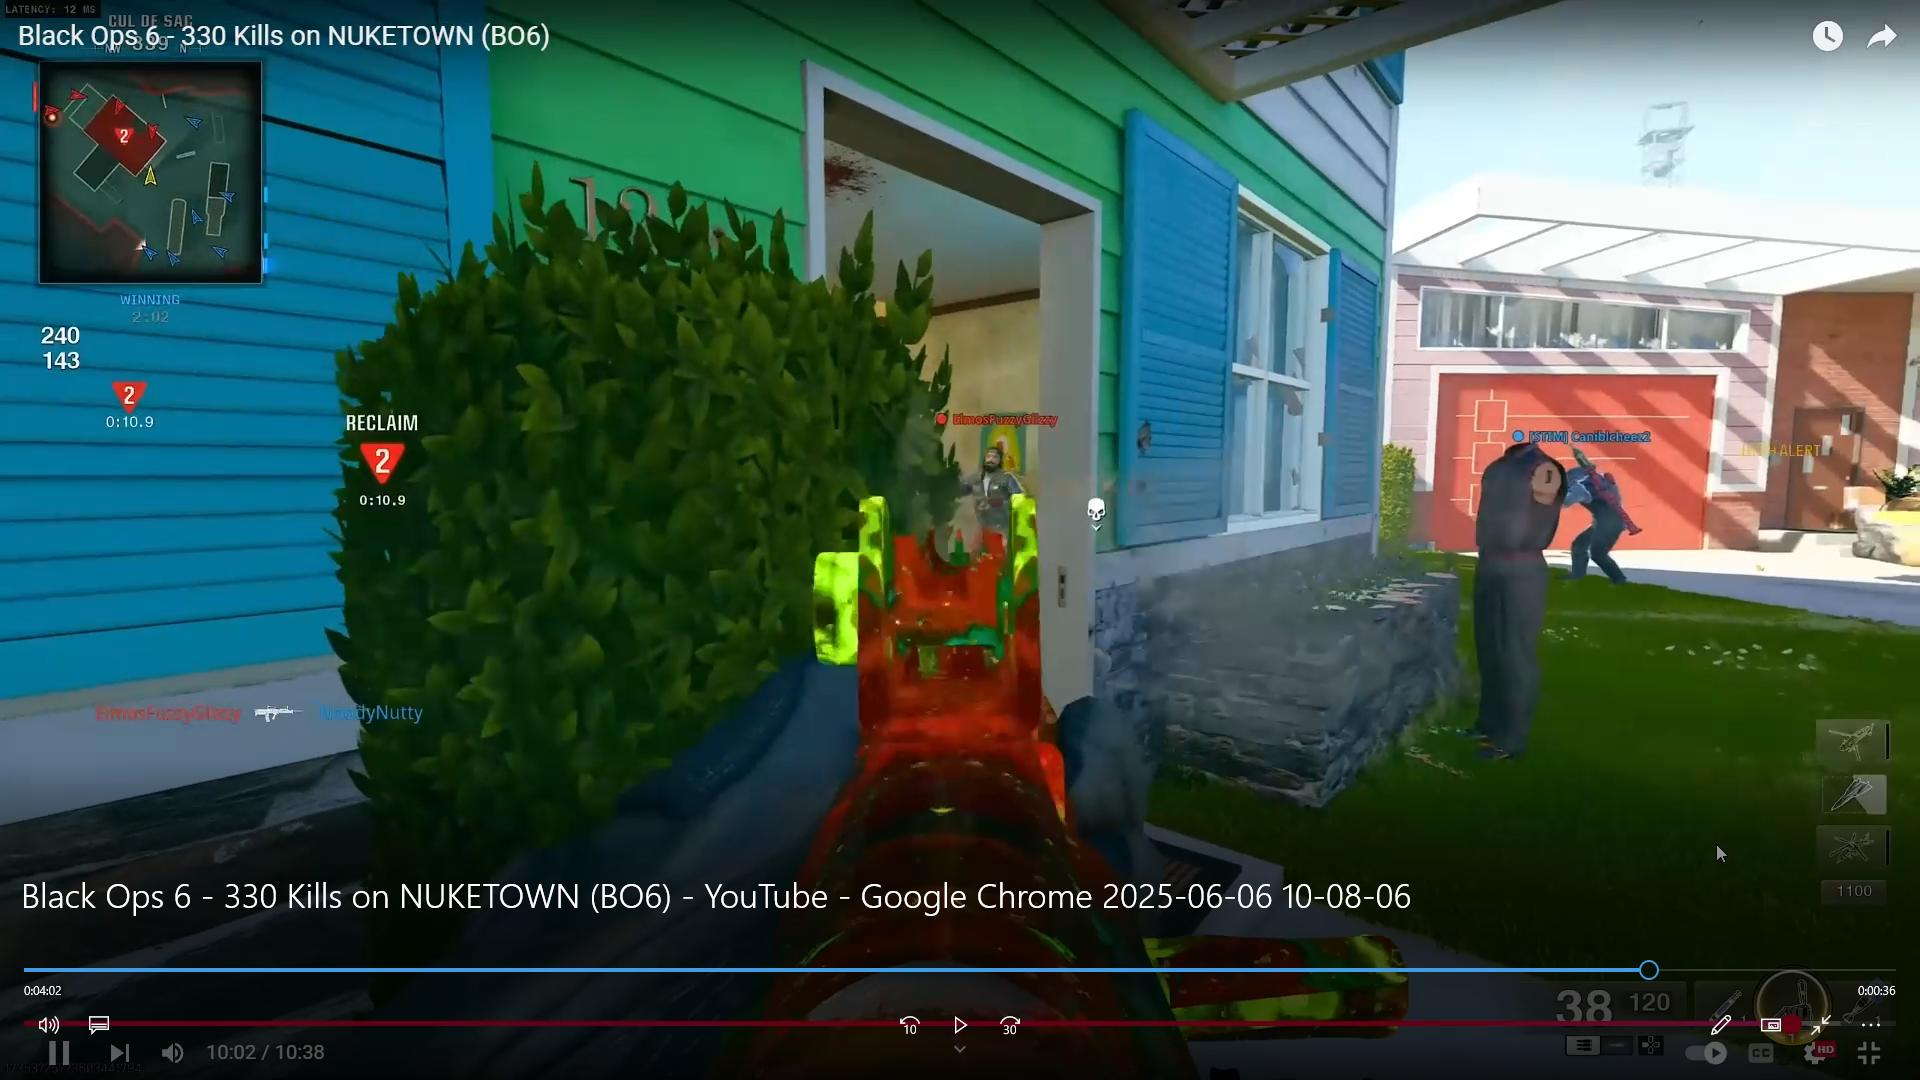Enemy: (963, 435, 1023, 497)
